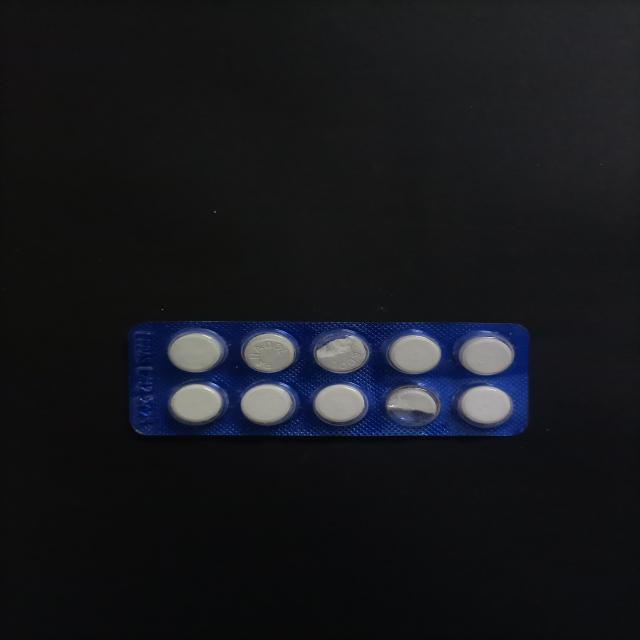defect: (308, 326, 373, 376), (380, 382, 444, 430)
